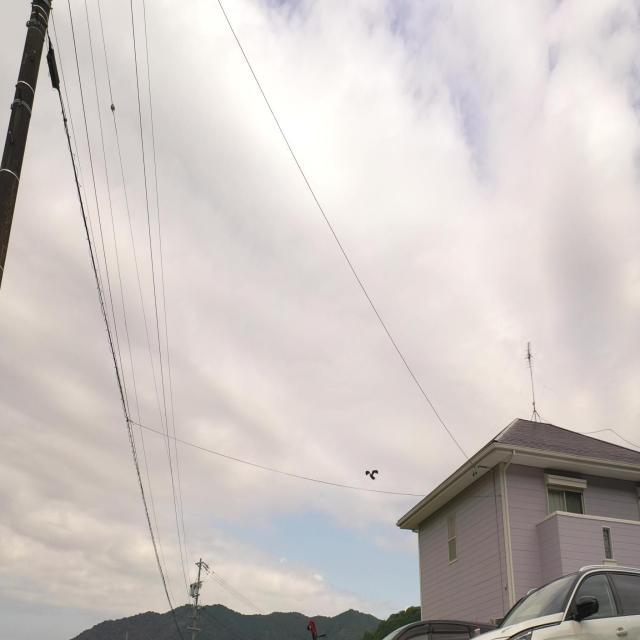Birds: (358, 455, 383, 494)
